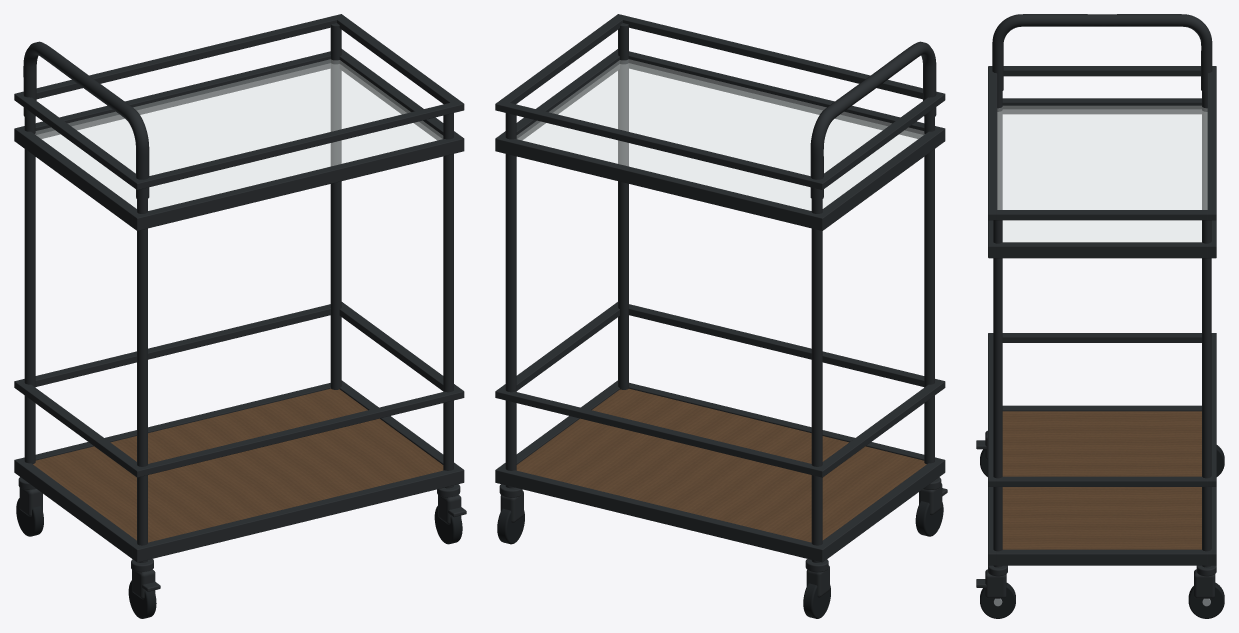
The model's file is nathan-james-carter-bar-cart.glb.
3 renders of one model, left to right at view 1: azimuth 30°, elevation 25°; view 2: azimuth 150°, elevation 25°; view 3: azimuth 270°, elevation 25°, orthographic. The views are drawn at different scales.
Parts seen in each view (by area): view 1: Nutmeg lower shelf, Tempered glass upper shelf, Shelf perimeter long rail, Shelf perimeter long rail.002, Shelf perimeter long rail.003, Round tubular corner upright.003, Safety guard long rail.002, Safety guard long rail, Round tubular corner upright.001, Round tubular corner upright.002, Round tubular corner upright, Curved raised push handle (+14 smaller); view 2: Nutmeg lower shelf, Tempered glass upper shelf, Shelf perimeter long rail.001, Shelf perimeter long rail.003, Shelf perimeter long rail.002, Round tubular corner upright.003, Safety guard long rail.003, Round tubular corner upright.001, Safety guard long rail.001, Round tubular corner upright.002, Curved raised push handle, Safety guard long rail (+14 smaller); view 3: Tempered glass upper shelf, Nutmeg lower shelf, Curved raised push handle, Shelf perimeter end rail.003, Shelf perimeter end rail.001, Shelf perimeter end rail.002, Round tubular corner upright.002, Round tubular corner upright.003, Safety guard end rail.003, Safety guard end rail.001, Safety guard end rail.002, Safety guard end rail (+13 smaller).
Part boxes in pixels (x1,y1,x2,y2): Nutmeg lower shelf: (33, 388, 443, 542); Tempered glass upper shelf: (35, 59, 442, 210); Shelf perimeter long rail: (132, 466, 464, 562); Shelf perimeter long rail.002: (132, 135, 464, 230); Shelf perimeter long rail.003: (14, 49, 345, 143); Round tubular corner upright.003: (330, 23, 341, 389); Safety guard long rail.002: (132, 100, 464, 189); Safety guard long rail: (132, 388, 464, 477); Round tubular corner upright.001: (24, 116, 35, 463); Round tubular corner upright.002: (443, 113, 453, 488); Round tubular corner upright: (137, 199, 147, 562); Curved raised push handle: (23, 41, 149, 199); Nutmeg lower shelf: (516, 388, 926, 542); Tempered glass upper shelf: (517, 59, 924, 210); Shelf perimeter long rail.001: (495, 466, 827, 562); Shelf perimeter long rail.003: (495, 135, 827, 230); Shelf perimeter long rail.002: (614, 49, 945, 143); Round tubular corner upright.003: (505, 113, 516, 488); Safety guard long rail.003: (495, 100, 827, 189); Round tubular corner upright.001: (811, 199, 822, 562); Safety guard long rail.001: (495, 388, 827, 477); Round tubular corner upright.002: (618, 23, 628, 389); Curved raised push handle: (810, 41, 936, 199); Safety guard long rail: (614, 302, 945, 390); Tempered glass upper shelf: (997, 106, 1207, 242); Nutmeg lower shelf: (1002, 411, 1201, 549); Curved raised push handle: (992, 14, 1212, 92); Shelf perimeter end rail.003: (996, 242, 1207, 258); Shelf perimeter end rail.001: (996, 549, 1207, 565); Shelf perimeter end rail.002: (1002, 98, 1201, 114); Round tubular corner upright.002: (993, 220, 1002, 567); Round tubular corner upright.003: (1202, 220, 1211, 567); Safety guard end rail.003: (996, 210, 1207, 220); Safety guard end rail.001: (996, 476, 1207, 486); Safety guard end rail.002: (1003, 66, 1200, 76); Safety guard end rail: (1002, 333, 1201, 342).
Bounding box in the file's own units: 0.6096 × 0.889 × 0.4318.
5 materials, 1 textured.
